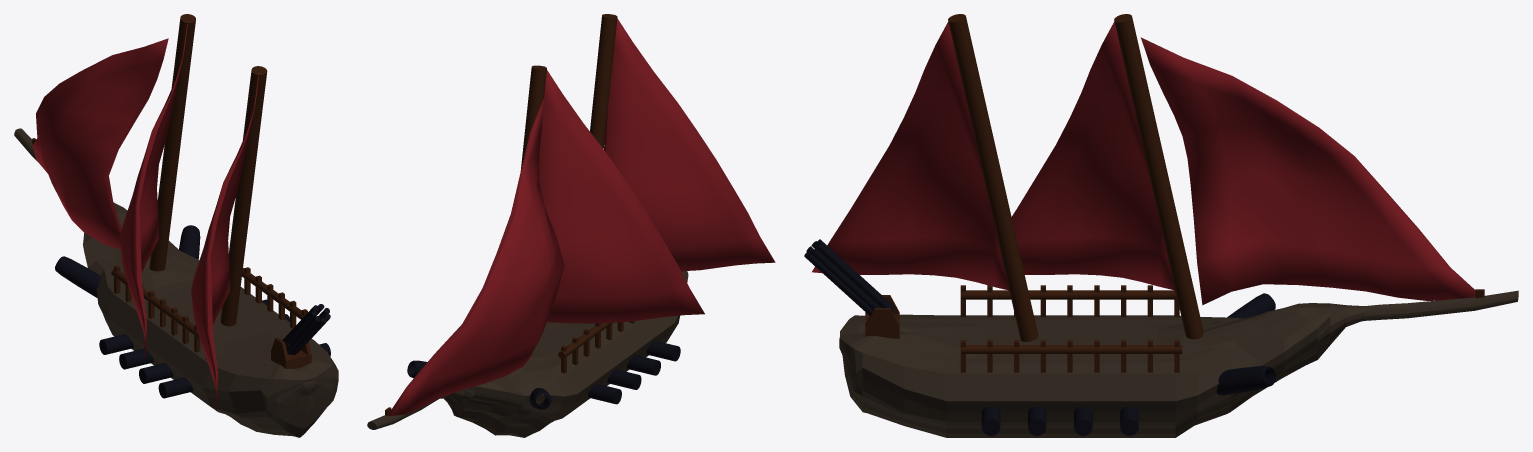
Rendered from SmallShip.fbx.
The picture shows the model from 3 angles, left to right: view 1: azimuth 30°, elevation 25°; view 2: azimuth 150°, elevation 25°; view 3: azimuth 270°, elevation 25°; orthographic projection. The views are drawn at different scales.
Parts seen in each view (by area): view 1: Rumpf, Hochsegel, Hochsegel.001, Hochsegel.002, Vordermast.001, Vordermast, Cylinder, Schießrohre, LeftCanon, LeftReling, MGBoden, RightReling (+3 smaller); view 2: Hochsegel.001, Hochsegel.002, Hochsegel, Rumpf, Vordermast.001, Cylinder, Vordermast, LeftReling, Cylinder.001; view 3: Rumpf, Hochsegel, Hochsegel.002, Hochsegel.001, Vordermast.001, Vordermast, Schießrohre, RightCanons, Cylinder.013, Cylinder.001, RightReling, RightCanon (+2 smaller).
Part boxes in pixels (left/top/right/bottom): Rumpf: left=14, top=128, right=338, bottom=437; Hochsegel: left=32, top=38, right=168, bottom=249; Hochsegel.001: left=120, top=21, right=188, bottom=358; Hochsegel.002: left=191, top=73, right=259, bottom=410; Vordermast.001: left=220, top=66, right=267, bottom=326; Vordermast: left=149, top=14, right=195, bottom=271; Cylinder: left=99, top=334, right=193, bottom=398; Schießrohre: left=282, top=304, right=330, bottom=355; LeftCanon: left=55, top=256, right=100, bottom=297; LeftReling: left=114, top=265, right=206, bottom=359; MGBoden: left=271, top=337, right=311, bottom=368; RightReling: left=244, top=267, right=307, bottom=328; Hochsegel.001: left=538, top=66, right=704, bottom=323; Hochsegel.002: left=604, top=15, right=775, bottom=271; Hochsegel: left=388, top=98, right=564, bottom=415; Rumpf: left=367, top=271, right=688, bottom=437; Vordermast.001: left=590, top=14, right=617, bottom=148; Cylinder: left=588, top=340, right=680, bottom=404; Vordermast: left=520, top=65, right=546, bottom=170; LeftReling: left=561, top=321, right=634, bottom=373; Cylinder.001: left=558, top=322, right=612, bottom=358; Rumpf: left=839, top=290, right=1518, bottom=437; Hochsegel: left=1141, top=37, right=1475, bottom=305; Hochsegel.002: left=812, top=16, right=1009, bottom=290; Hochsegel.001: left=1011, top=16, right=1175, bottom=290; Vordermast.001: left=948, top=14, right=1038, bottom=341; Vordermast: left=1114, top=14, right=1203, bottom=339; Schießrohre: left=804, top=239, right=893, bottom=315; RightCanons: left=981, top=406, right=1138, bottom=435; Cylinder.013: left=961, top=345, right=1182, bottom=353; Cylinder.001: left=961, top=290, right=1177, bottom=299; RightReling: left=960, top=340, right=1179, bottom=372; RightCanon: left=1216, top=366, right=1275, bottom=395.
Bounding box in the file's own units: 1371 × 2493 × 3871.
